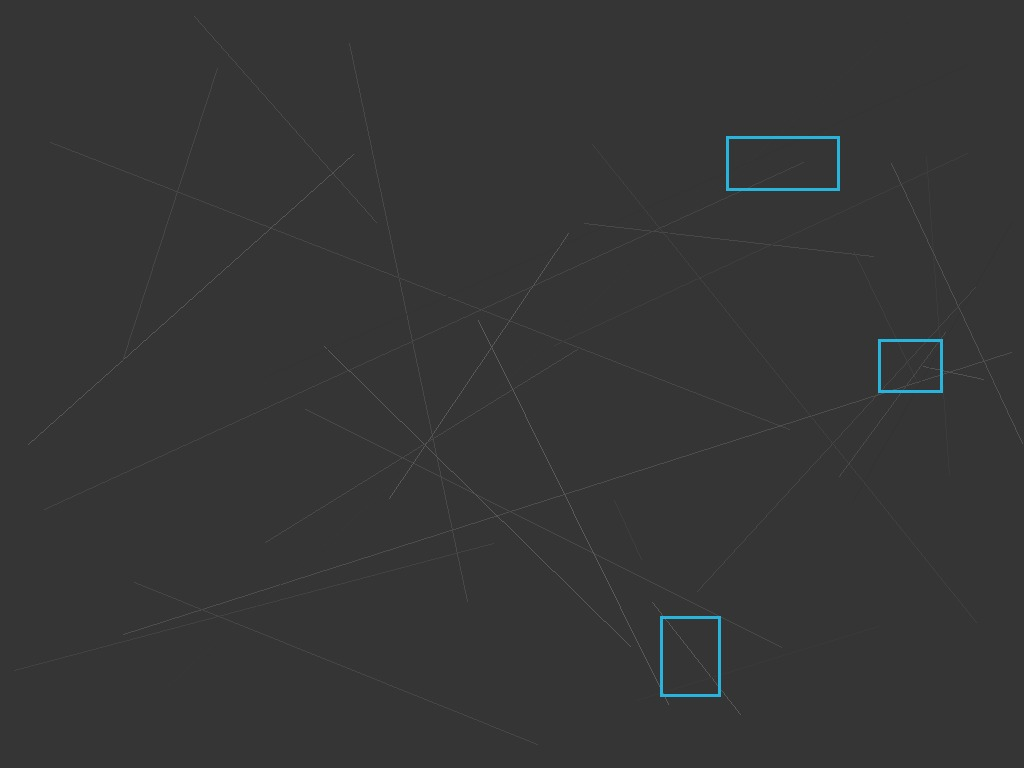D00: (726, 136, 839, 190)
D10: (660, 616, 720, 696), (878, 339, 942, 392)
